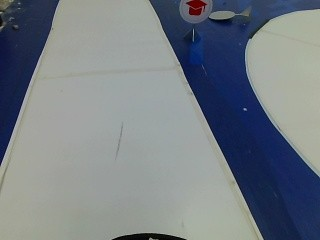school: (180, 0, 210, 22)
